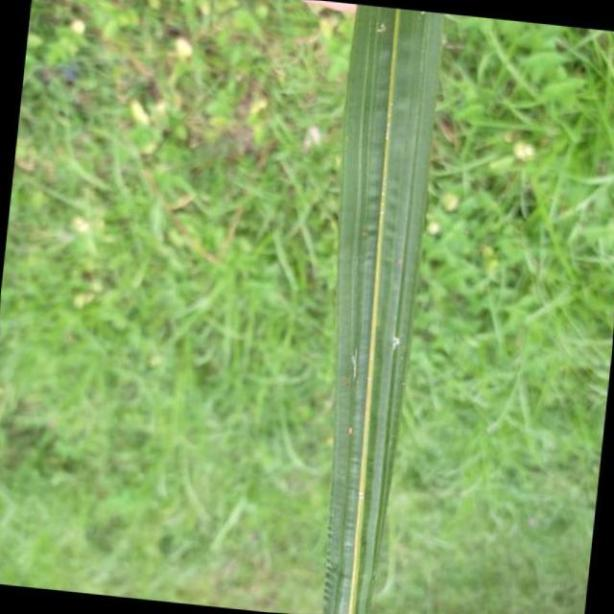Boron: (326, 0, 445, 614)
